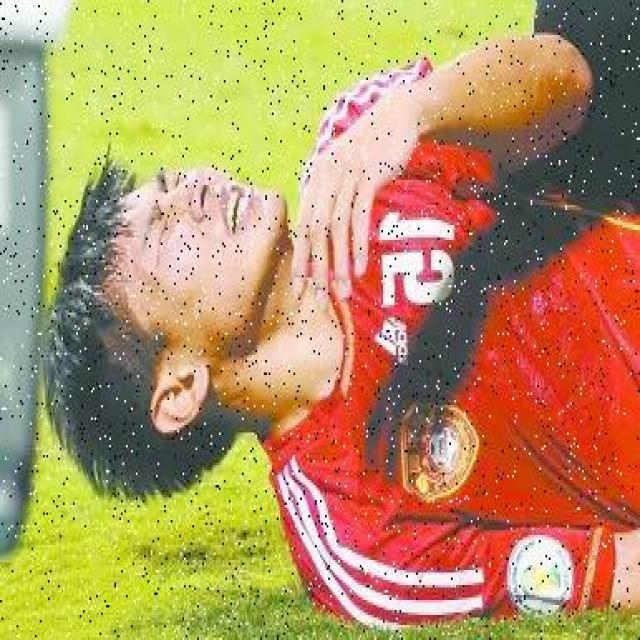fall: (66, 20, 638, 620)
